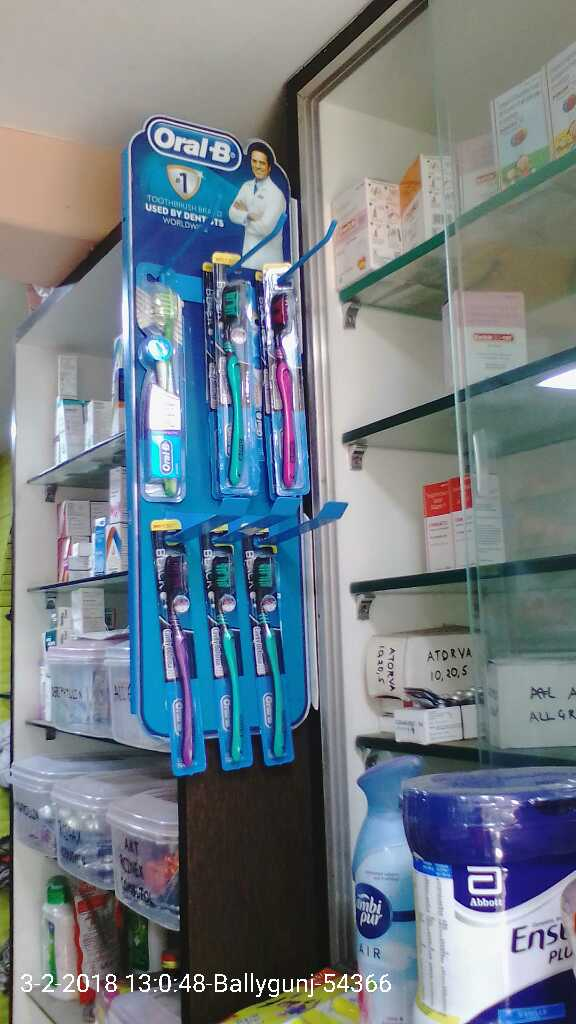oralb: (148, 555, 206, 764), (256, 289, 312, 491), (203, 279, 256, 491), (250, 548, 296, 769), (146, 269, 187, 496), (215, 541, 246, 755)
